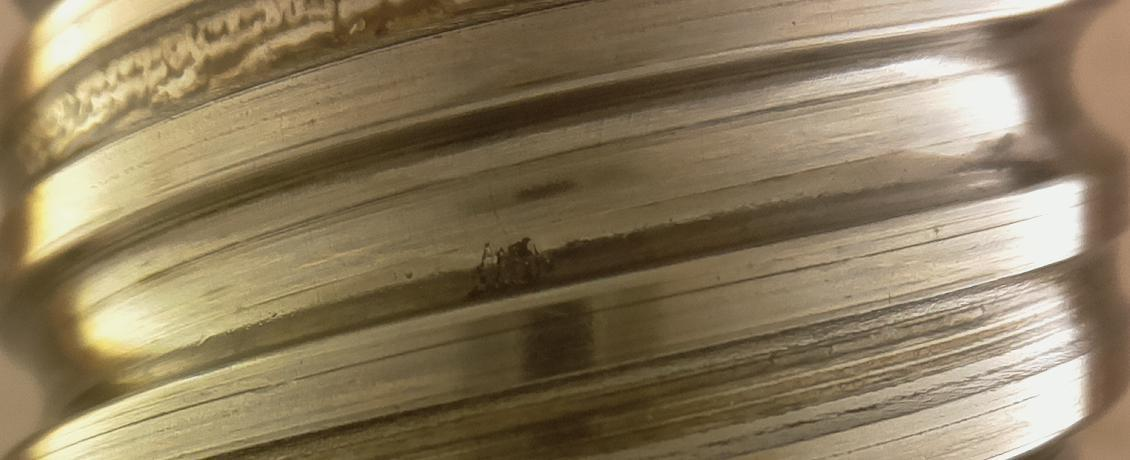pitting: (484, 237, 559, 297)
